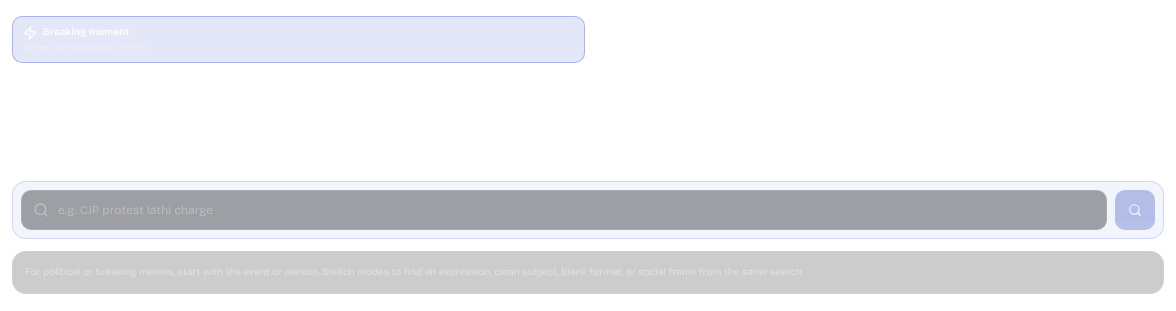
CreatorDiscoveryPanel › stops punctuation-only searches without spending a request
The width and height of the screenshot is (1176, 311).
Type "!!! ???" into the search field named "Search people, moments, reactions, and meme material" at coordinates (564, 210), box 21,190 -> 1107,230
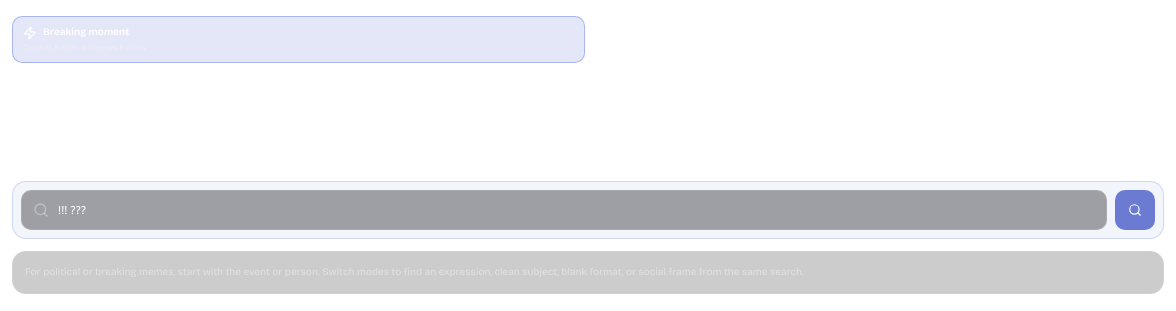
Click the button named "Search images" at coordinates (1135, 210), box 1115,190 -> 1155,230
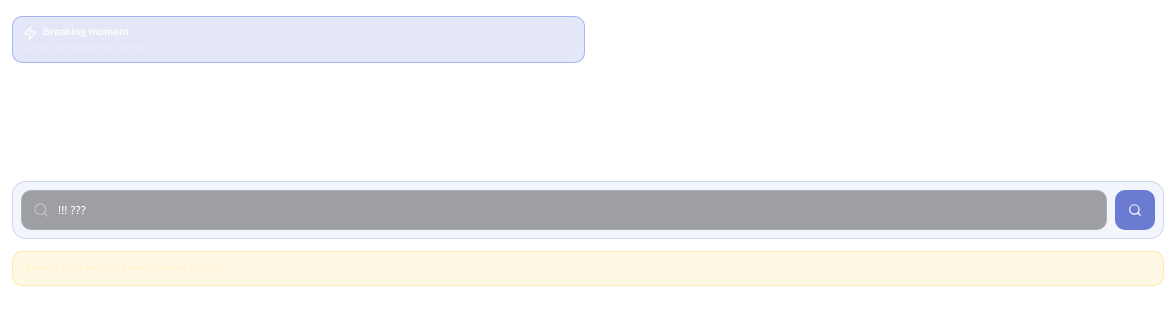
Expected: the text "Search for a person, event, phrase, or topic." is shown, 12,251 -> 1164,286
